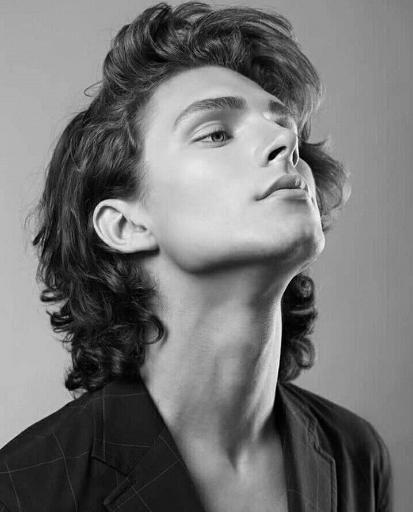right_eye: (190, 129, 238, 150)
right_lip_corner: (250, 187, 272, 210)
